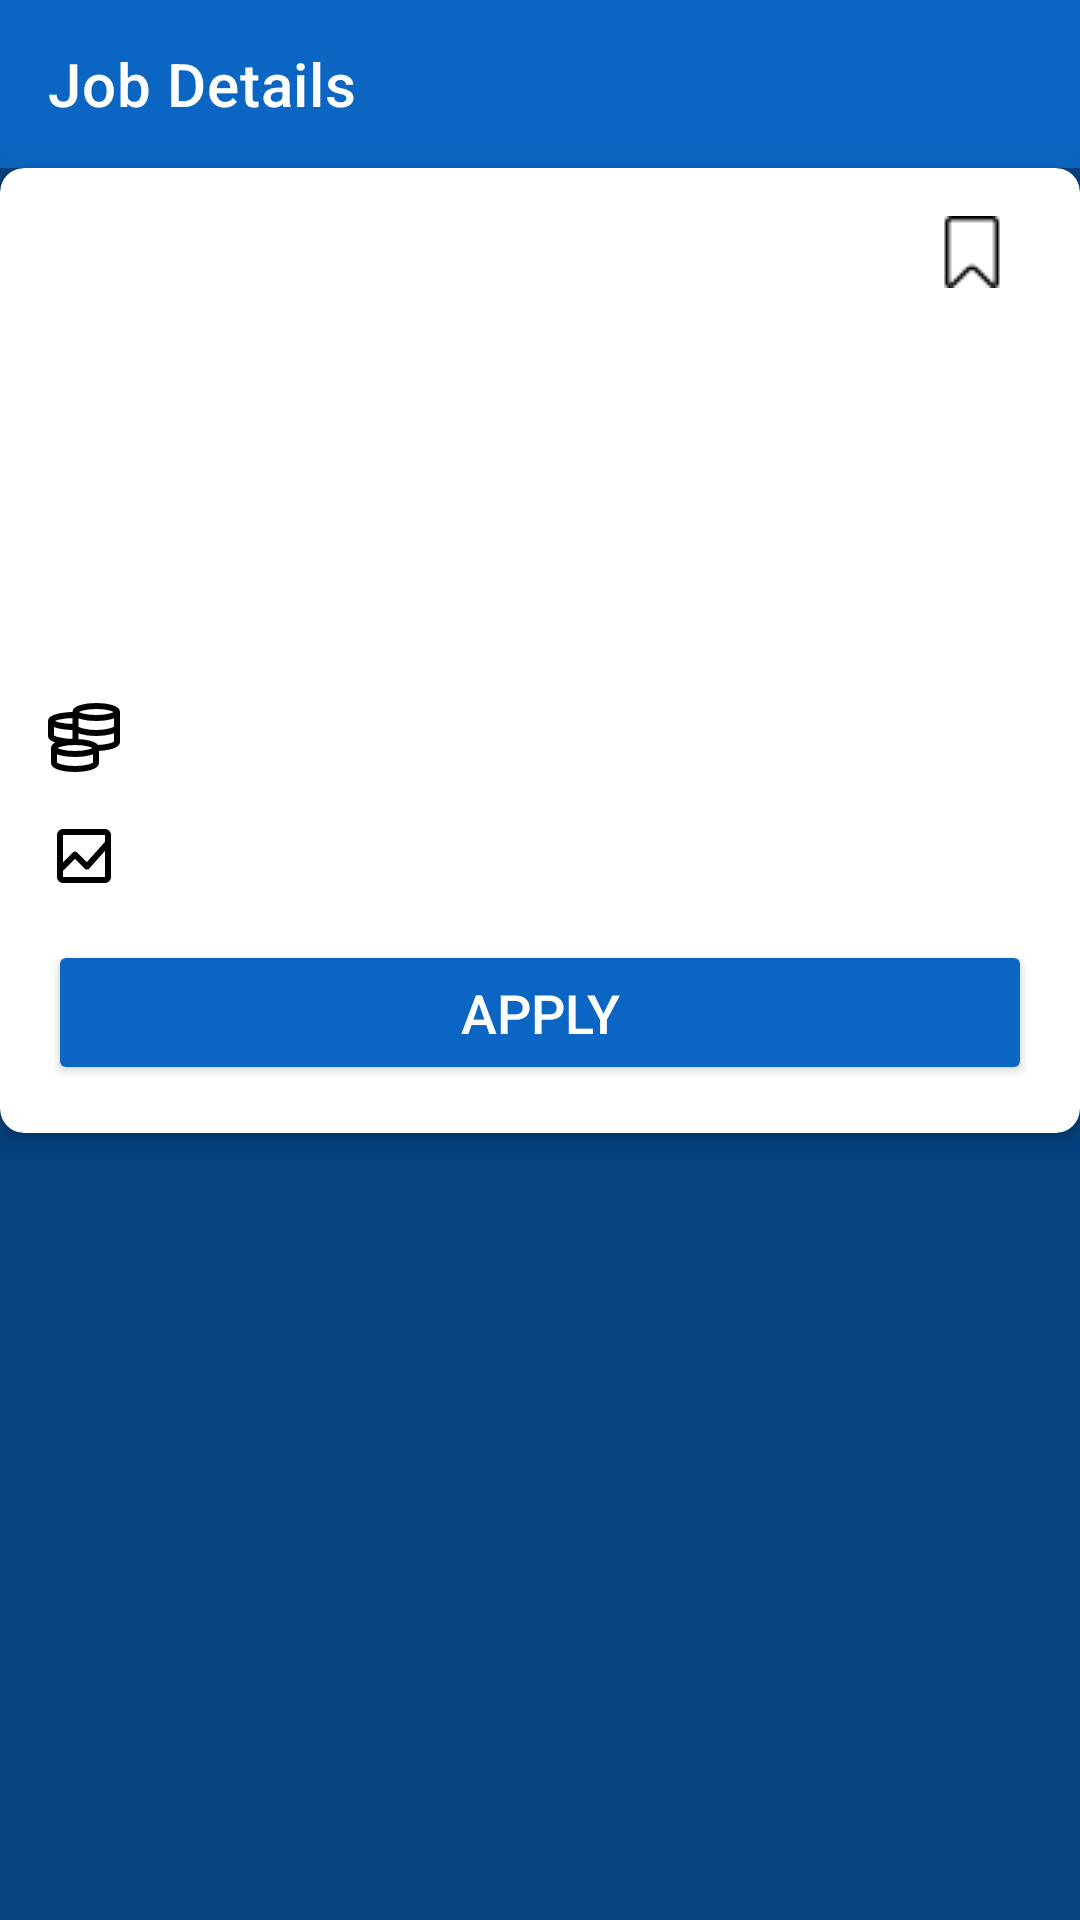

Named icons in this screenshot (1080 x 1920) and their bounding boxes, (x1, y1, x2, y2):
save: (944, 216, 1000, 288)
